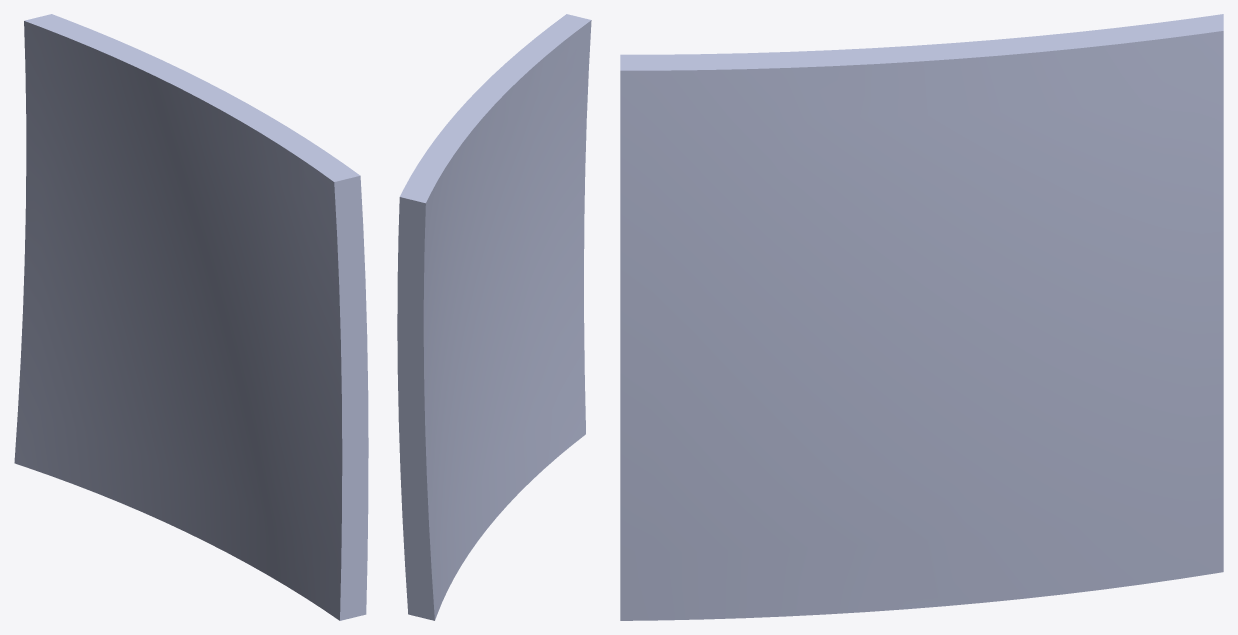
The model's file is MirrorUA_26EV_TopSeatMounting__MirrorUA_26EV_TopSeatMounting_BackingPlate_1.dae.
3 renders of one model, left to right at view 1: azimuth 30°, elevation 25°; view 2: azimuth 150°, elevation 25°; view 3: azimuth 270°, elevation 25°, orthographic. The views are drawn at different scales.
Visible parts, largest first — view 1: node0; view 2: node0; view 3: node0.
Part boxes in pixels (x1,y1,x2,y2): node0: [14, 14, 368, 620]; node0: [397, 14, 591, 620]; node0: [620, 14, 1223, 620].
Bounding box in the file's own units: 0.0134 × 0.0508 × 0.0508.
